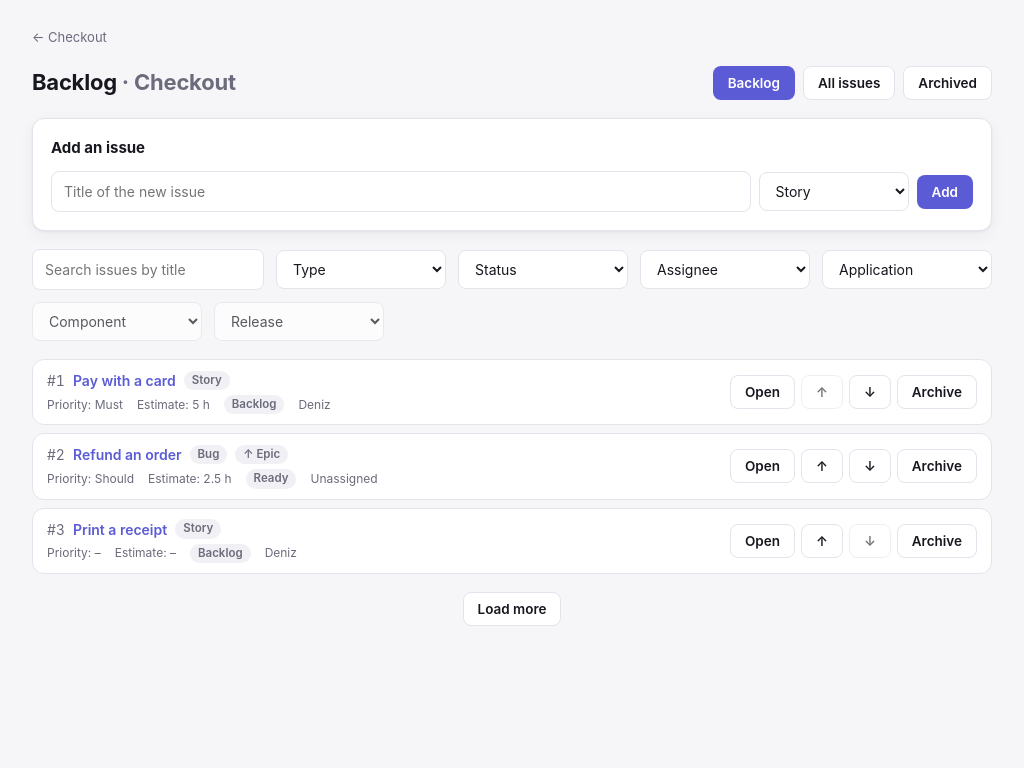
Test: the backlog: the list › shows a refusal when more cannot be loaded
Click the button "Load more" at (512, 609), box [462,592,562,626]
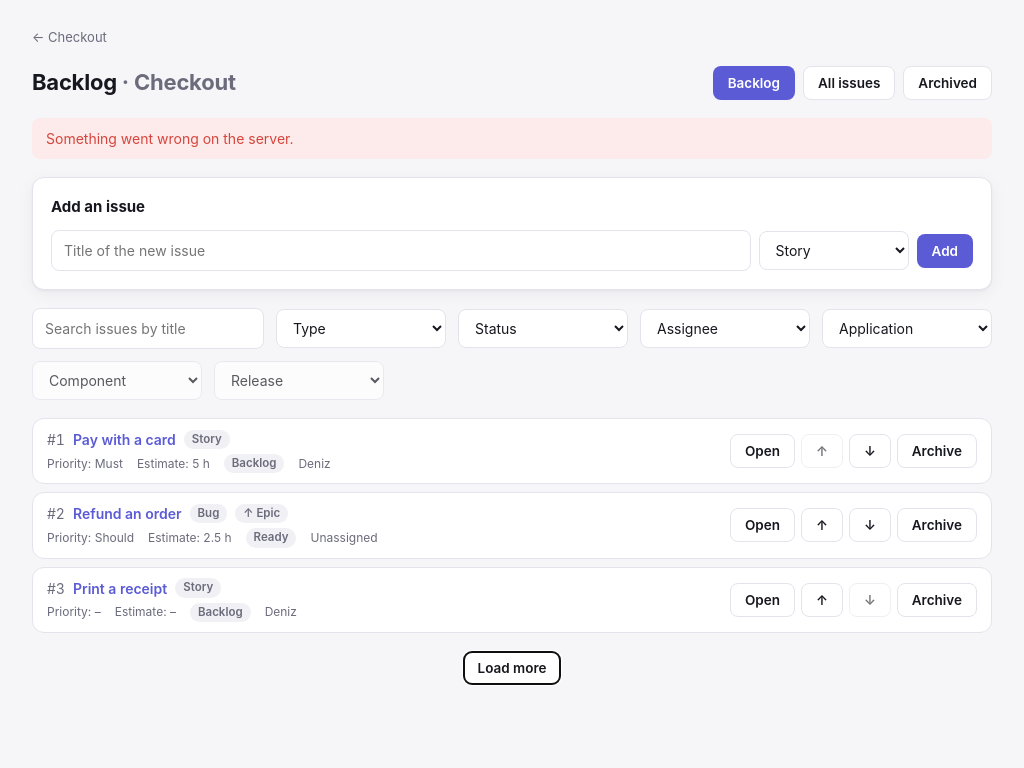
expect the text "Something went wrong on the server." is shown: met, box [32,118,992,158]
